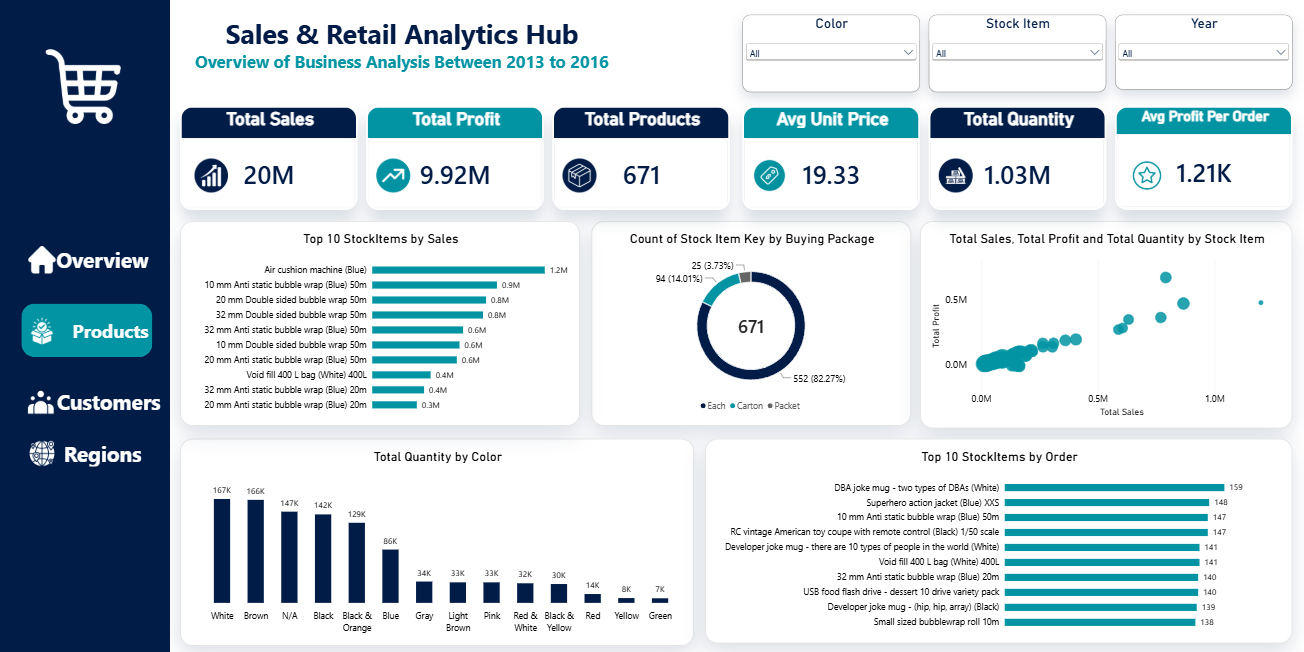

The dashboard page shown, as its layout file describes it:
{"tool":"powerbi","page":{"name":"Product","canvas":[2110,1070],"ordinal":1},"visuals":[{"type":"shape","box":[10,0,278,1070],"z":0},{"type":"textbox","box":[304,30,710,108],"z":1000},{"type":"donutChart","fields":{"Category":["DimStockItem.Buying Package"],"Y":["CountNonNull(DimStockItem.Stock Item Key)"]},"box":[962,360,512,328],"z":2000},{"type":"cardVisual","title":"Total Sales","fields":{"Data":["FactSale.Total Sales"]},"box":[304,176,284,166],"z":3000},{"type":"scatterChart","fields":{"Category":["DimStockItem.Stock Item"],"Size":["FactSale.Total Quantity"],"X":["FactSale.Total Sales"],"Y":["FactSale.Total Profit"]},"box":[1488,360,596,332],"z":4000},{"type":"cardVisual","title":"Total Profit","fields":{"Data":["FactSale.Total Profit"]},"box":[602,176,284,166],"z":5000},{"type":"cardVisual","title":"Avg Unit Price","fields":{"Data":["FactSale.Average Unit Price"]},"box":[1204,176,284,166],"z":6000},{"type":"clusteredColumnChart","title":"Total Quantity by Color ","fields":{"Category":["DimStockItem.Color Cleaned"],"Y":["FactSale.Total Quantity"]},"box":[304,708,822,332],"z":7000},{"type":"cardVisual","title":"Avg Profit Per Order","fields":{"Data":["FactSale.Average Profit per Order"]},"box":[1800,176,284,166],"z":8000},{"type":"cardVisual","title":"Total Quantity","fields":{"Data":["FactSale.Total Quantity"]},"box":[1502,176,284,166],"z":9000},{"type":"cardVisual","title":"Total Products","fields":{"Data":["DimStockItem.Total Products"]},"box":[900,176,284,166],"z":10000},{"type":"slicer","title":"Stock Item","fields":{"Values":["DimStockItem.Stock Item"]},"box":[1502,30,284,124],"z":11000},{"type":"slicer","title":"Color","fields":{"Values":["DimStockItem.Color Cleaned"]},"box":[1204,30,284,124],"z":12000},{"type":"image","box":[304,260,100,54],"z":13000},{"type":"image","box":[602,260,86,54],"z":14000},{"type":"image","box":[900,260,86,54],"z":15000},{"type":"image","box":[1204,260,86,54],"z":16000},{"type":"image","box":[1502,260,86,54],"z":17000},{"type":"image","box":[1808,260,86,54],"z":18000},{"type":"shape","box":[82,378,178,86],"z":19000},{"type":"image","box":[50,400,66,44],"z":20000},{"type":"shape","box":[50,492,210,86],"z":21000},{"type":"image","box":[50,514,66,44],"z":22000},{"type":"shape","box":[96,606,188,86],"z":23000},{"type":"image","box":[48,628,66,44],"z":24000},{"type":"shape","box":[102,688,156,86],"z":25000},{"type":"image","box":[50,710,66,44],"z":26000},{"type":"image","box":[70,84,158,122],"z":27000},{"type":"barChart","title":"Top 10 StockItems by Sales","fields":{"Category":["DimStockItem.Stock Item"],"Y":["FactSale.Total Sales"]},"box":[304,360,640,328],"z":28000},{"type":"slicer","title":"Year","fields":{"Values":["DimDate.Date.Variation.Date Hierarchy.Year"]},"box":[1800,30,284,120],"z":29000},{"type":"clusteredBarChart","title":"Top 10 StockItems by Order","fields":{"Category":["DimStockItem.Stock Item"],"Y":["FactSale.Total Orders"]},"box":[1144,708,940,328],"z":30000}]}

Visuals, with their boxes in screenshot pixels (x1, y1, x2, y2), scaled from the page's 2110x1070 canvas onto the 1304x652 screenshot:
shape: region(6, 0, 178, 651)
textbox: region(188, 18, 627, 84)
donutChart - DimStockItem.Buying Package x CountNonNull(DimStockItem.Stock Item Key): region(595, 219, 911, 419)
"Total Sales" cardVisual: region(188, 107, 363, 208)
scatterChart - DimStockItem.Stock Item x FactSale.Total Quantity: region(920, 219, 1288, 422)
"Total Profit" cardVisual: region(372, 107, 548, 208)
"Avg Unit Price" cardVisual: region(744, 107, 920, 208)
"Total Quantity by Color " clusteredColumnChart: region(188, 431, 696, 634)
"Avg Profit Per Order" cardVisual: region(1112, 107, 1288, 208)
"Total Quantity" cardVisual: region(928, 107, 1104, 208)
"Total Products" cardVisual: region(556, 107, 732, 208)
"Stock Item" slicer: region(928, 18, 1104, 94)
"Color" slicer: region(744, 18, 920, 94)
image: region(188, 158, 250, 191)
image: region(372, 158, 425, 191)
image: region(556, 158, 609, 191)
image: region(744, 158, 797, 191)
image: region(928, 158, 981, 191)
image: region(1117, 158, 1171, 191)
shape: region(51, 230, 161, 283)
image: region(31, 244, 72, 271)
shape: region(31, 300, 161, 352)
image: region(31, 313, 72, 340)
shape: region(59, 369, 176, 422)
image: region(30, 383, 70, 409)
shape: region(63, 419, 159, 472)
image: region(31, 433, 72, 459)
image: region(43, 51, 141, 126)
"Top 10 StockItems by Sales" barChart: region(188, 219, 583, 419)
"Year" slicer: region(1112, 18, 1288, 91)
"Top 10 StockItems by Order" clusteredBarChart: region(707, 431, 1288, 631)
